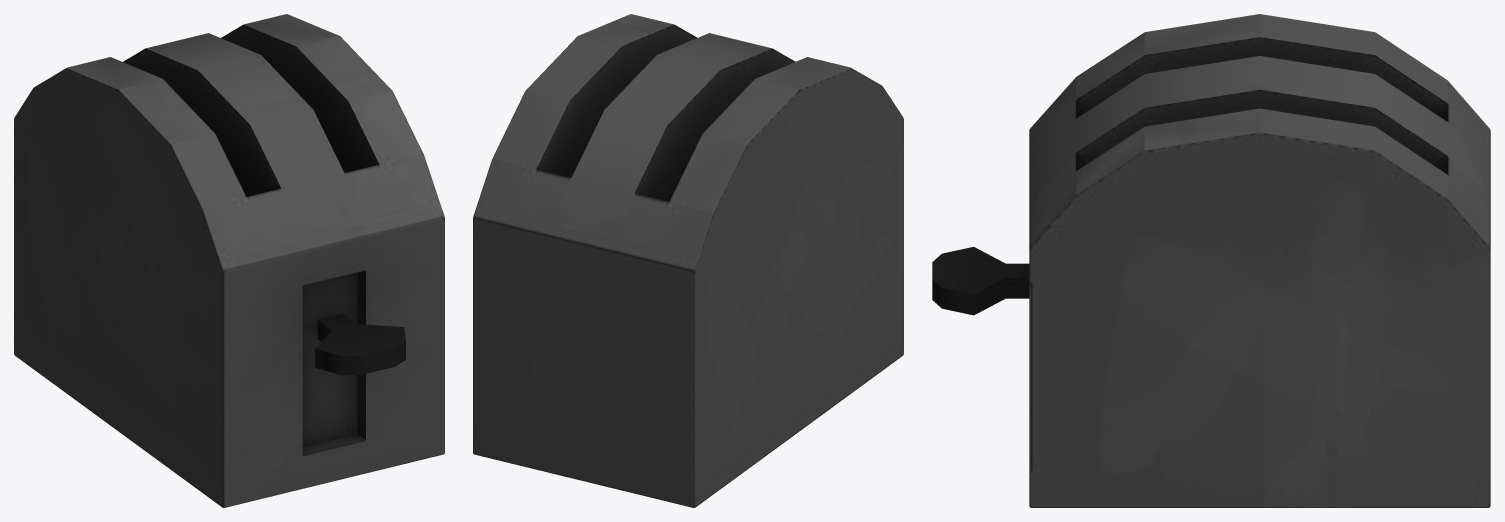
File: toaster.fbx
3 renders of one model, left to right at view 1: azimuth 30°, elevation 25°; view 2: azimuth 150°, elevation 25°; view 3: azimuth 270°, elevation 25°, orthographic. The views are drawn at different scales.
Parts seen in each view (by area): view 1: polySurface1, pCube3; view 2: polySurface1; view 3: polySurface1, pCube3.
Boxes of the visible parts, box(x1,y1,x2,y2) form: polySurface1: box(14, 14, 444, 507); pCube3: box(315, 313, 405, 375); polySurface1: box(473, 14, 903, 507); polySurface1: box(1029, 14, 1490, 507); pCube3: box(932, 247, 1029, 315).
Size of the model in its own units: 15.27 by 22.46 by 30.19.
